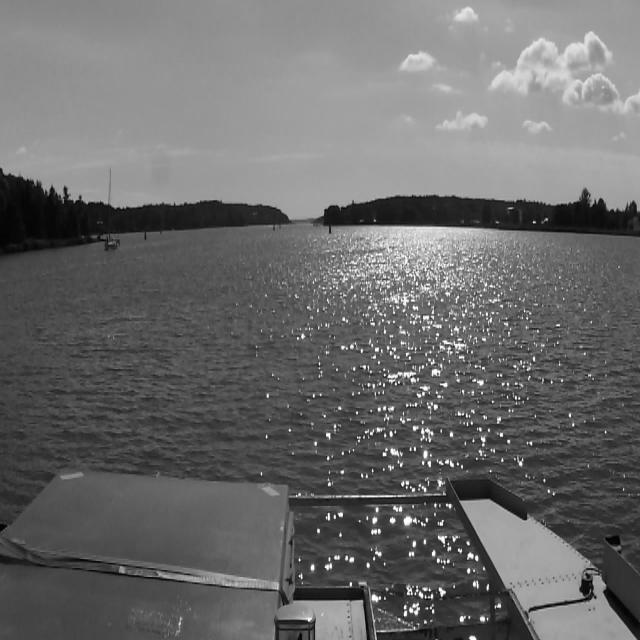buoy: (328, 220, 332, 234), (144, 228, 147, 242), (272, 221, 276, 231), (278, 220, 282, 230), (160, 226, 162, 236)
ship: (103, 166, 121, 254)
